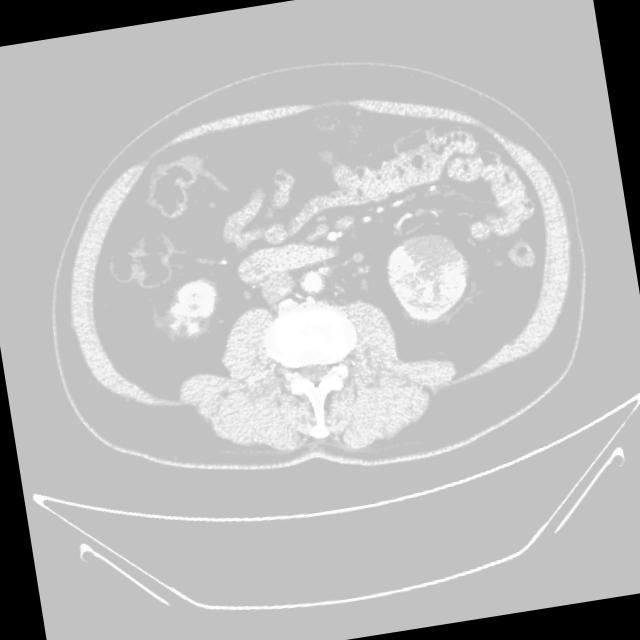TUMOR: (181, 178, 552, 416)
